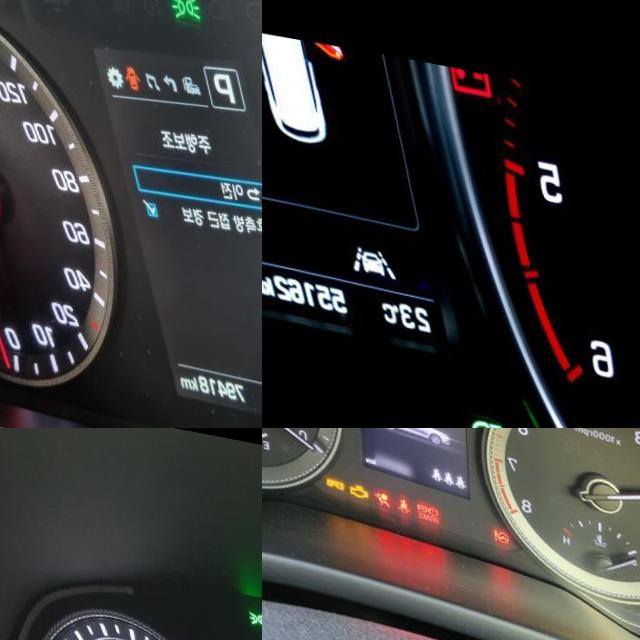Doors: (115, 53, 134, 81)
LaneCenteringOff: (342, 234, 388, 270)
SideLamp: (163, 0, 199, 11), (241, 597, 261, 615)
